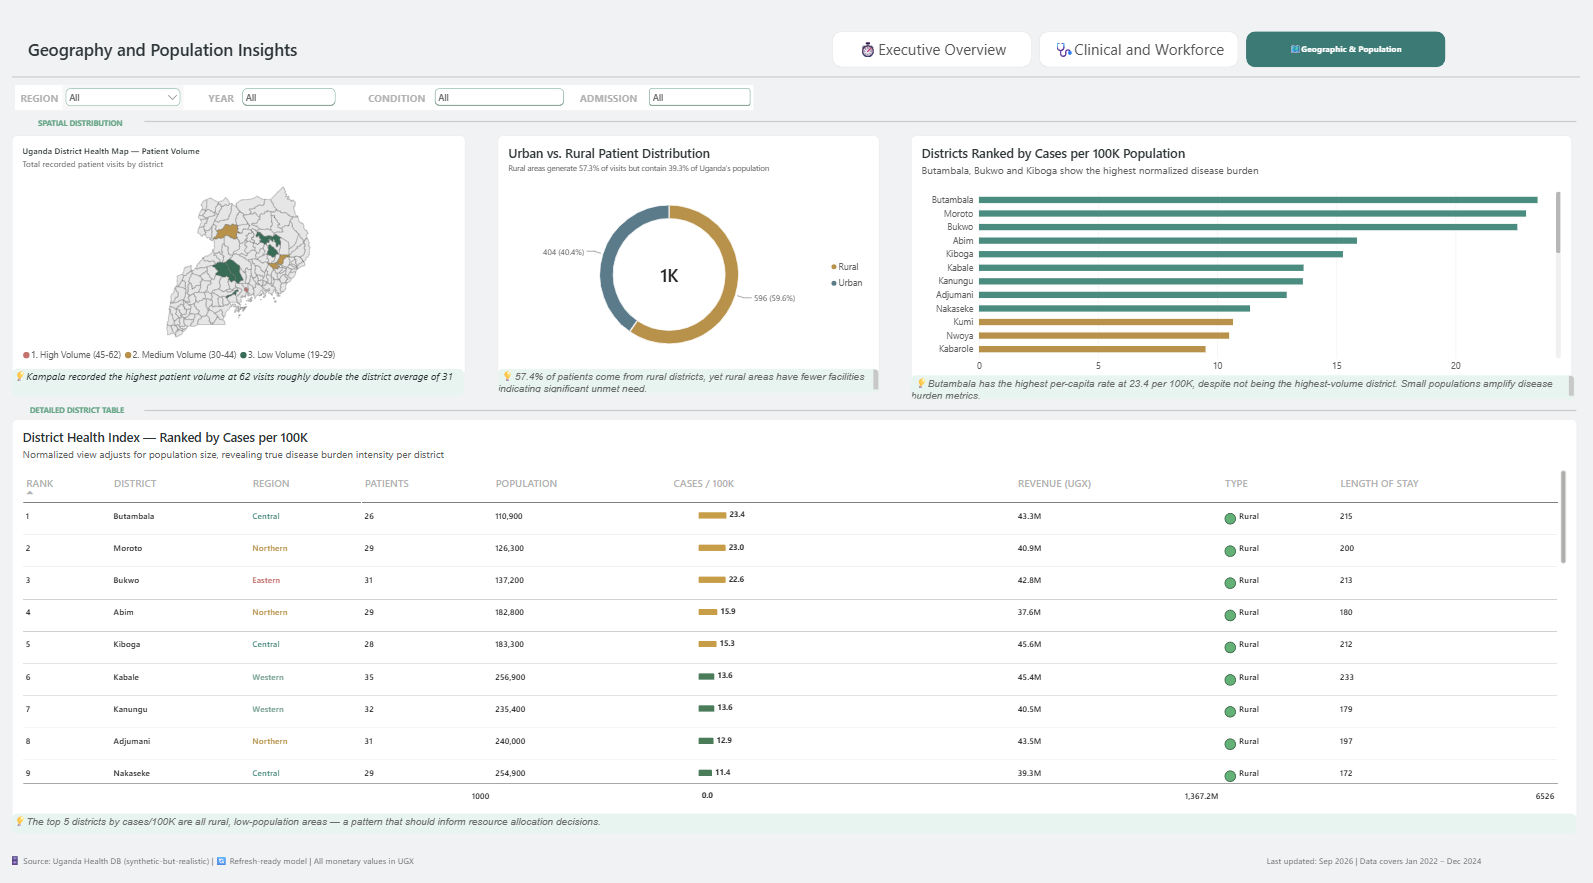

The dashboard page shown, as its layout file describes it:
{"tool":"powerbi","page":{"name":"🗺️Geographic & Population","canvas":[2560,1440],"ordinal":2},"visuals":[{"type":"group","id":"g1","title":"Group 5","box":[40.9,107.3,1174,43.2],"z":0,"group":"g9"},{"type":"slicer","fields":{"Values":["public admission_type.admission_type"]},"box":[1043.5,107.3,171.4,37.2],"z":0,"group":"g1"},{"type":"textbox","box":[39.8,156.5,207.2,23.3],"z":0,"group":"g2"},{"type":"donutChart","title":"Urban vs. Rural Patient Distribution","fields":{"Category":["public district.Urban/Rural"],"Y":["public fact_patient_visits.Total Patients"]},"box":[818.4,191.6,598.7,394.9],"z":0,"group":"g8"},{"type":"shapeMap","title":"Uganda District Health Map — Patient Volume","fields":{"Category":["public district.district_name"],"Series":["public district.Patient_Category"],"Value":["public fact_patient_visits.Total Patients"]},"box":[37.5,192,722,392.5],"z":0,"group":"g10"},{"type":"clusteredBarChart","title":"Districts Ranked by Cases per 100K Population","fields":{"Category":["public district.district_name"],"Y":["public district.Cases per 100k"]},"box":[1468.6,192.3,1070.4,409.3],"z":0,"group":"g5"},{"type":"textbox","box":[30.3,628.6,216.8,23.7],"z":0,"group":"g6"},{"type":"tableEx","title":"District Health Index — Ranked by Cases per 100K","fields":{"Values":["public district.Rank","public district.district_name","public district.region","public fact_patient_visits.Total Patients","public district.estimated_population","public district.Cases Bar","public fact_patient_visits.Total Revenue (UGX)","public district.Urban/Rural","Sum(public fact_patient_visits.length_of_stay)"]},"box":[35.7,658,2492,665.7],"z":0,"group":"g7"},{"type":"textbox","box":[33.9,30,479.9,51],"z":1000,"group":"g9"},{"type":"slicer","fields":{"Values":["public district.region"]},"box":[118.6,109.7,192.7,40.8],"z":1000,"group":"g1"},{"type":"shape","box":[246.3,153,2279.8,26.6],"z":1000,"group":"g2"},{"type":"textbox","box":[818.4,575.2,598.7,38.9],"z":1000,"group":"g8"},{"type":"textbox","box":[39.2,575.7,722.5,38.9],"z":1000,"group":"g10"},{"type":"textbox","box":[1469.4,581.5,1056.6,38.8],"z":1000,"group":"g5"},{"type":"shape","box":[245.8,629.6,2279.9,22.6],"z":1000,"group":"g6"},{"type":"textbox","box":[36.4,1305.6,2490.6,32.4],"z":1000,"group":"g7"},{"type":"shape","box":[33.9,81,2496.1,25.5],"z":2000,"group":"g9"},{"type":"textbox","box":[926.2,116.6,121.6,27.9],"z":2000,"group":"g1"},{"type":"slicer","fields":{"Values":["public date.year"]},"box":[396.7,107.5,158.6,41],"z":3000,"group":"g1"},{"type":"group","id":"g2","title":"Group 1","box":[39.8,153,2486.3,26.8],"z":3000,"group":"g9"},{"type":"slicer","fields":{"Values":["public medical_condition.condition_name"]},"box":[705.1,108.7,216,40],"z":4000,"group":"g1"},{"type":"group","id":"g3","title":"Group 2","box":[37.5,192,724.2,422.6],"z":4000,"group":"g9"},{"type":"textbox","box":[40.9,119,77.7,31],"z":5000,"group":"g1"},{"type":"group","id":"g4","title":"Group 3","box":[818.4,191.6,598.7,422.4],"z":5000,"group":"g9"},{"type":"textbox","box":[336.7,117.1,63.7,29.8],"z":6000,"group":"g1"},{"type":"group","id":"g5","title":"Group 4","box":[1468.6,192.3,1070.4,428],"z":6000,"group":"g9"},{"type":"textbox","box":[590.3,117.5,120.5,26],"z":7000,"group":"g1"},{"type":"group","id":"g6","title":"Group 6","box":[30.3,628.6,2495.5,23.7],"z":7000,"group":"g9"},{"type":"group","id":"g7","title":"Group 8","box":[35.7,658,2492,680],"z":8000,"group":"g9"},{"type":"group","id":"g8","title":"Group 7","box":[818.4,191.6,598.7,428.4],"z":8001,"group":"g4"},{"type":"pageNavigator","box":[1908.7,30.8,617,46.8],"z":9000,"group":"g9"},{"type":"group","id":"g9","title":"Group 9","box":[30.3,30,2508.7,1380],"z":9003},{"type":"group","id":"g10","title":"Group 10","box":[37.5,192,724.2,422.6],"z":9004,"group":"g3"},{"type":"textbox","box":[30.8,1367.5,2499.2,42.5],"z":10000,"group":"g9"}]}

Visuals, with their boxes in screenshot pixels (x1, y1, x2, y2), scaled from the page's 2560x1440 canvas onto the 1593x883 screenshot:
"Group 5" group: <region>25, 66, 756, 92</region>
slicer - public admission_type.admission_type: <region>649, 66, 756, 89</region>
textbox: <region>25, 96, 154, 110</region>
"Urban vs. Rural Patient Distribution" donutChart: <region>509, 117, 882, 360</region>
"Uganda District Health Map — Patient Volume" shapeMap: <region>23, 118, 473, 358</region>
"Districts Ranked by Cases per 100K Population" clusteredBarChart: <region>914, 118, 1580, 369</region>
textbox: <region>19, 385, 154, 400</region>
"District Health Index — Ranked by Cases per 100K" tableEx: <region>22, 403, 1573, 812</region>
textbox: <region>21, 18, 320, 50</region>
slicer - public district.region: <region>74, 67, 194, 92</region>
shape: <region>153, 94, 1572, 110</region>
textbox: <region>509, 353, 882, 377</region>
textbox: <region>24, 353, 474, 377</region>
textbox: <region>914, 357, 1572, 380</region>
shape: <region>153, 386, 1572, 400</region>
textbox: <region>23, 801, 1572, 820</region>
shape: <region>21, 50, 1574, 65</region>
textbox: <region>576, 71, 652, 89</region>
slicer - public date.year: <region>247, 66, 346, 91</region>
"Group 1" group: <region>25, 94, 1572, 110</region>
slicer - public medical_condition.condition_name: <region>439, 67, 573, 91</region>
"Group 2" group: <region>23, 118, 474, 377</region>
textbox: <region>25, 73, 74, 92</region>
"Group 3" group: <region>509, 117, 882, 377</region>
textbox: <region>210, 72, 249, 90</region>
"Group 4" group: <region>914, 118, 1580, 380</region>
textbox: <region>367, 72, 442, 88</region>
"Group 6" group: <region>19, 385, 1572, 400</region>
"Group 8" group: <region>22, 403, 1573, 820</region>
"Group 7" group: <region>509, 117, 882, 380</region>
pageNavigator: <region>1188, 19, 1572, 48</region>
"Group 9" group: <region>19, 18, 1580, 865</region>
"Group 10" group: <region>23, 118, 474, 377</region>
textbox: <region>19, 839, 1574, 865</region>
